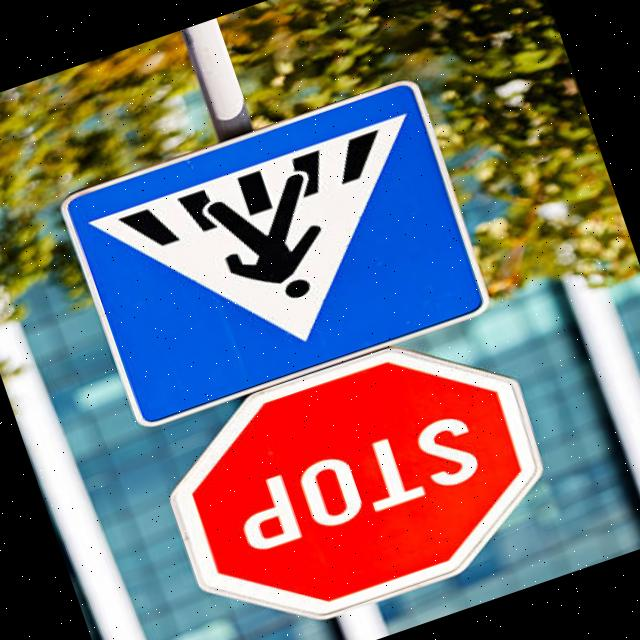stop: (118, 309, 581, 640)
